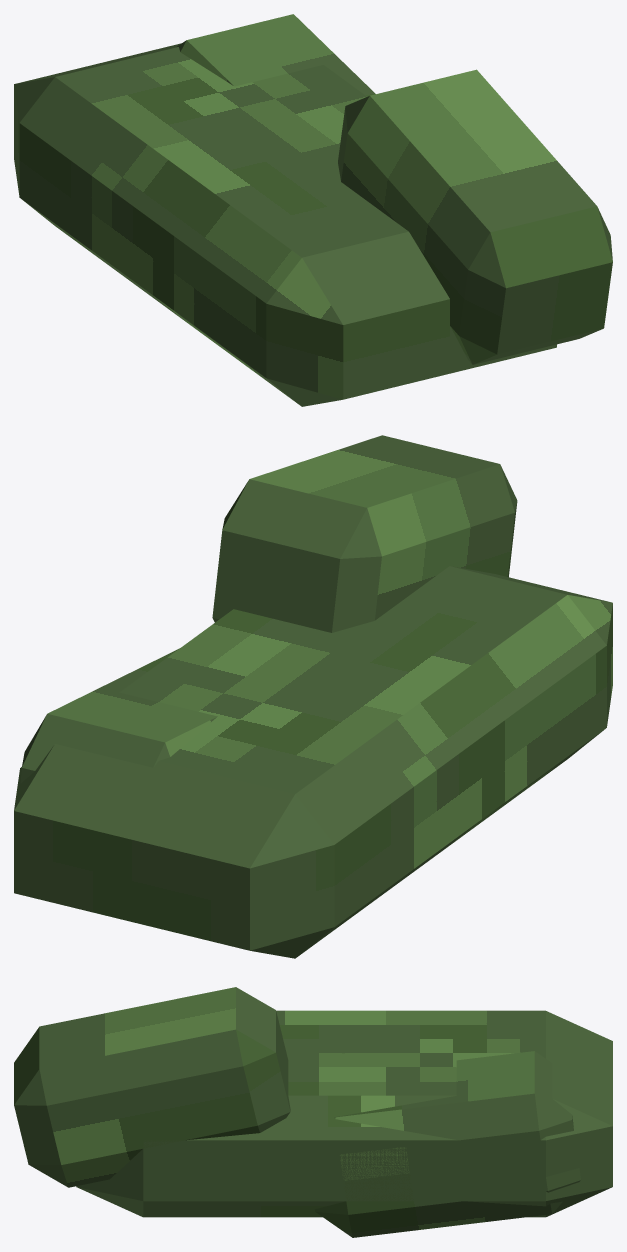
3 renders of one model, top to bottom at view 1: azimuth 30°, elevation 25°; view 2: azimuth 150°, elevation 25°; view 3: azimuth 270°, elevation 25°, orthographic. The views are drawn at different scales.
Visible parts, largest first — view 1: beveled_cuboid, beveled_cuboid_1, beveled_cuboid_2; view 2: beveled_cuboid, beveled_cuboid_1, beveled_cuboid_2; view 3: beveled_cuboid, beveled_cuboid_1, beveled_cuboid_2.
Boxes of the visible parts, x1,y1,x2,y2 form: beveled_cuboid: (14, 43, 556, 406); beveled_cuboid_1: (338, 69, 612, 364); beveled_cuboid_2: (176, 14, 375, 96); beveled_cuboid: (14, 566, 612, 958); beveled_cuboid_1: (212, 435, 517, 632); beveled_cuboid_2: (20, 648, 217, 782); beveled_cuboid: (76, 1010, 612, 1217); beveled_cuboid_1: (14, 987, 290, 1187); beveled_cuboid_2: (314, 1051, 581, 1237).
Bounding box in the file's own units: 25 × 21.42 × 55.79.
Materials: 3 (3 with a texture image).
